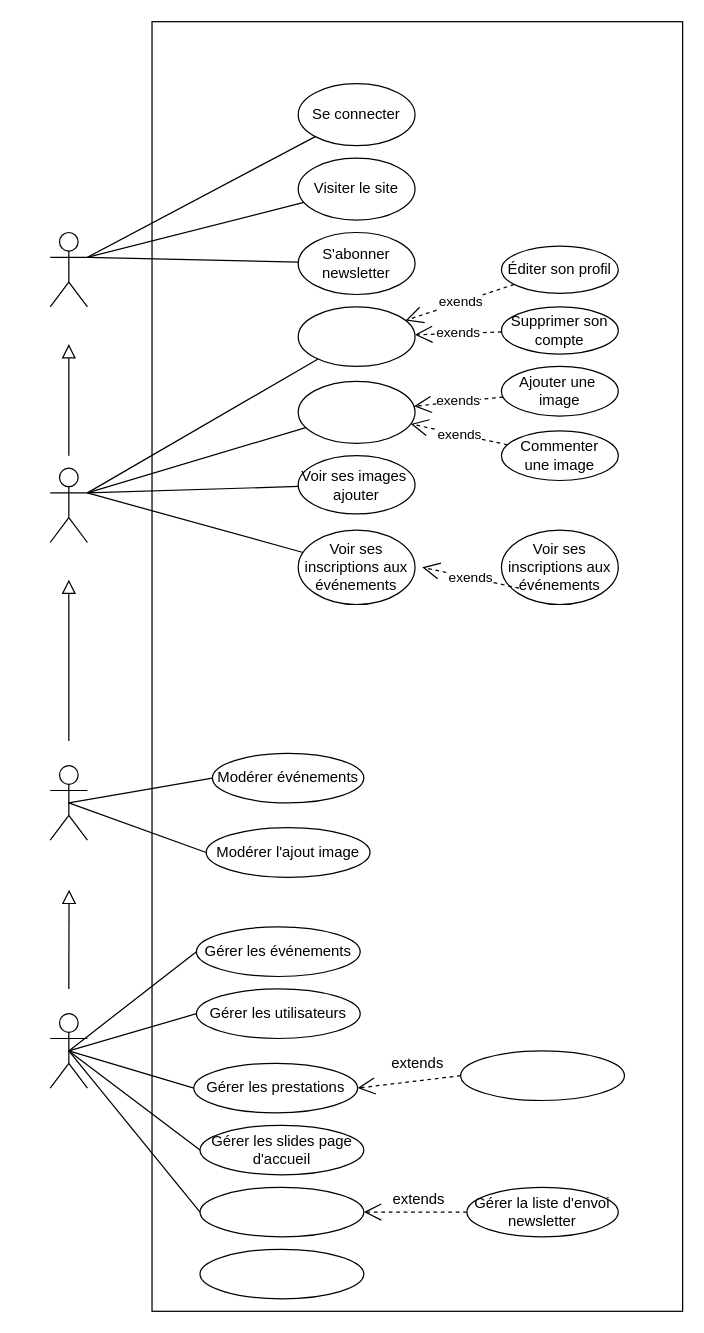
Image size: 704x1333. Some labels were removed from this diagram. Here are the shapes that lost their labels. From the top down, the centre of each, then its label:
At [68,269]: "Visiteur".
At [356,336]: "Voir son profil".
At [356,411]: "Voir la galerie d'image".
At [68,504]: "Membre".
At [68,802]: "Modérateur".
At [68,1050]: "Administrateur".
At [541,1075]: "Gérer les catégories prestations".
At [281,1211]: "Envoyer la newsletter".
At [281,1273]: "Gérer la galerie".
